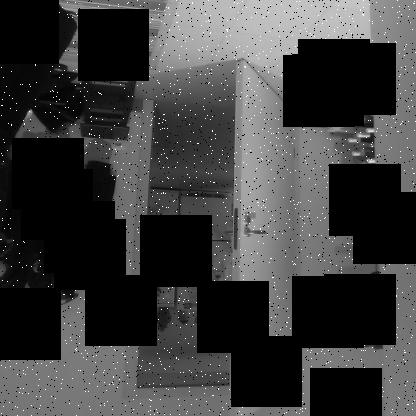Porte: (122, 55, 306, 415)
